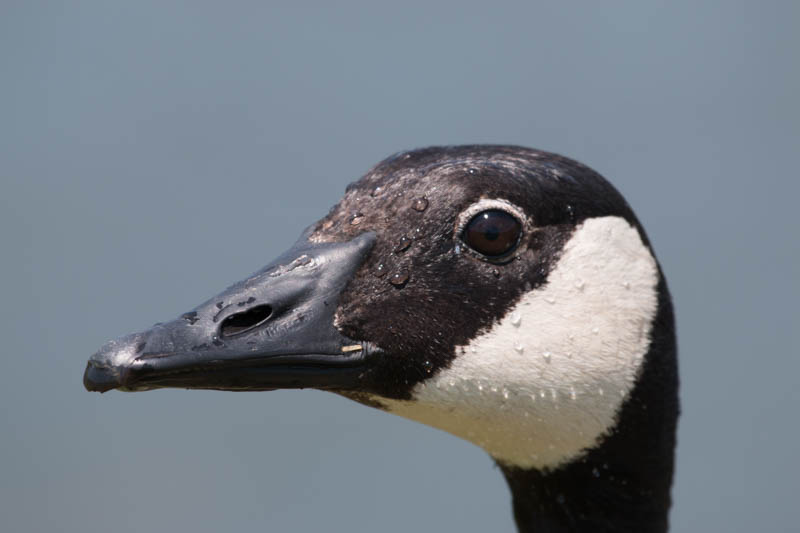goose-head: (82, 145, 681, 475)
